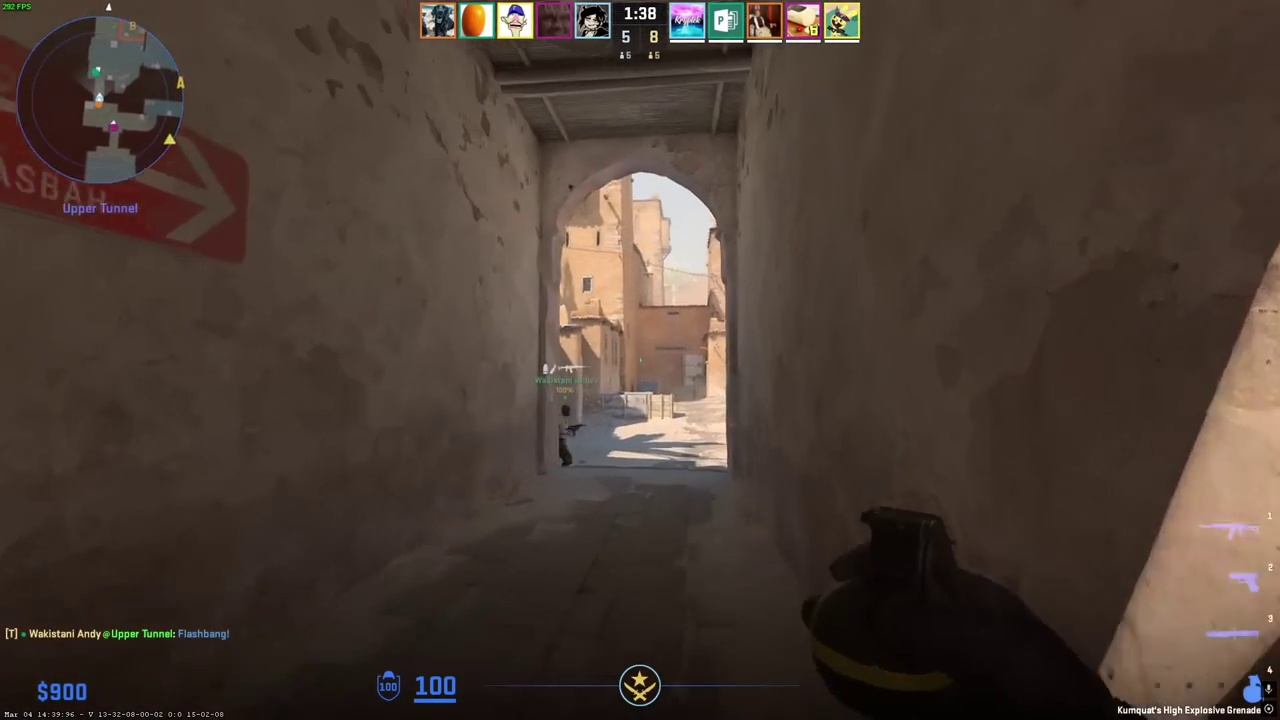Terrorist: (558, 404, 576, 468)
